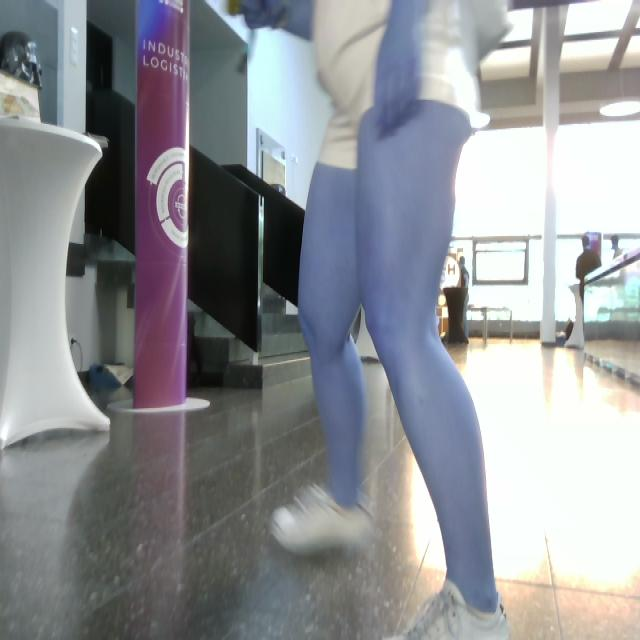door: (255, 128, 309, 358)
light bulb: (416, 1, 514, 132)
person: (244, 1, 515, 640)
pillar: (133, 1, 191, 409), (539, 5, 569, 345)
tiled floor: (2, 333, 639, 638)
